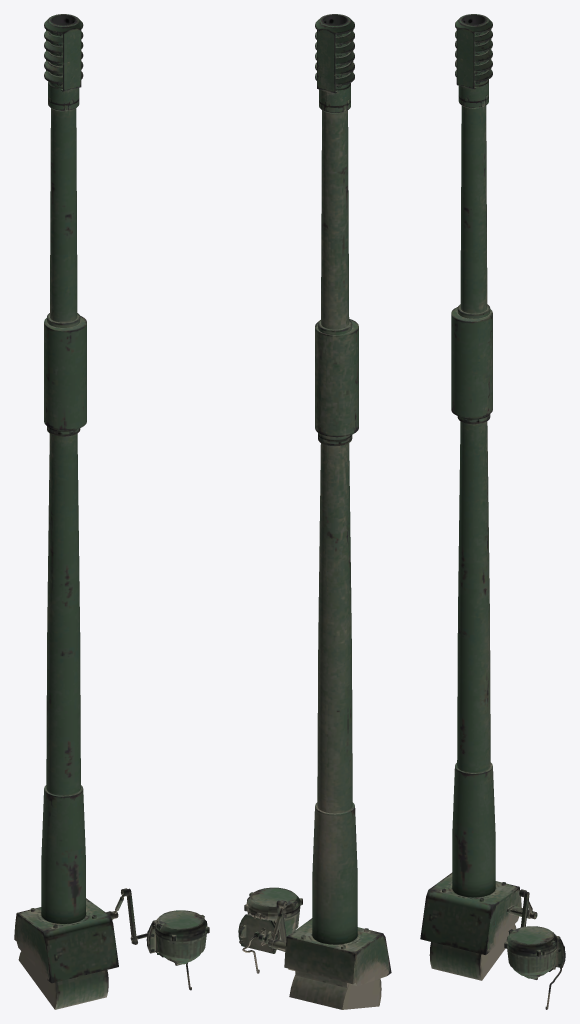
File: Gun_01.glb
3 views of the same model, side by side, from view 1: azimuth 30°, elevation 25°; view 2: azimuth 150°, elevation 25°; view 3: azimuth 330°, elevation 25° (orthographic). The views are drawn at different scales.
Visible parts, largest first — view 1: set_0_group_0; view 2: set_0_group_0; view 3: set_0_group_0.
Boxes of the visible parts, left/top/right/bottom form: set_0_group_0: left=14, top=14, right=209, bottom=1009; set_0_group_0: left=238, top=14, right=391, bottom=1009; set_0_group_0: left=420, top=14, right=565, bottom=1009.
Size of the model in its own units: 1.12 by 7.2 by 0.8149.
Materials: 1 (1 with a texture image).
